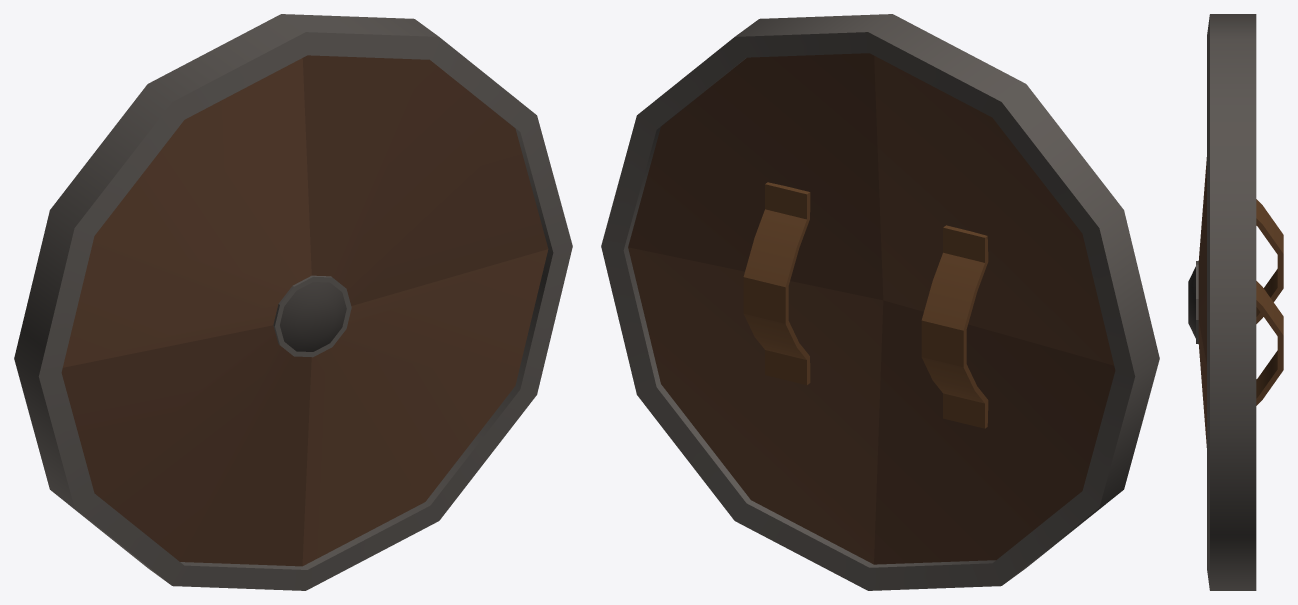
The model's file is Round Shield_Brown.glb.
3 renders of one model, left to right at view 1: azimuth 30°, elevation 25°; view 2: azimuth 150°, elevation 25°; view 3: azimuth 270°, elevation 25°, orthographic. The views are drawn at different scales.
Parts seen in each view (by area): view 1: Round Shield_Brown; view 2: Round Shield_Brown; view 3: Round Shield_Brown.
Boxes of the visible parts, bbox=[...] form: Round Shield_Brown: bbox=[14, 14, 572, 590]; Round Shield_Brown: bbox=[601, 14, 1159, 590]; Round Shield_Brown: bbox=[1188, 14, 1283, 590].
Bounding box in the file's own units: 0.6 × 0.6 × 0.0987.
1 material, 1 textured.
